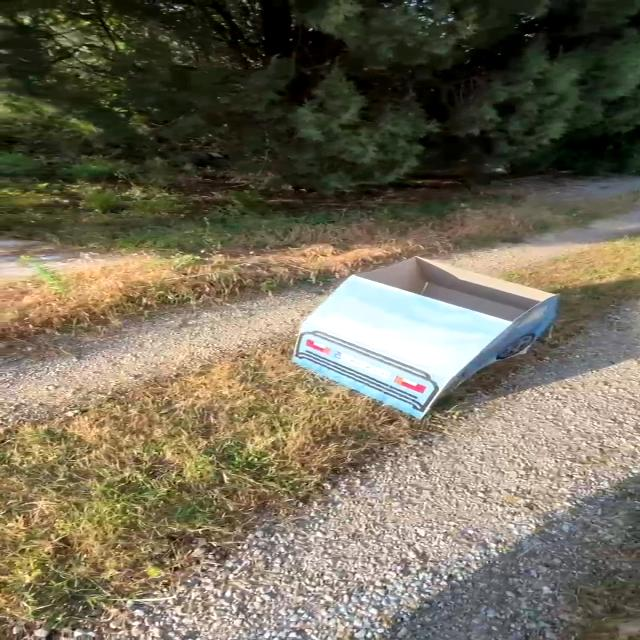blue_car: (252, 246, 589, 427)
